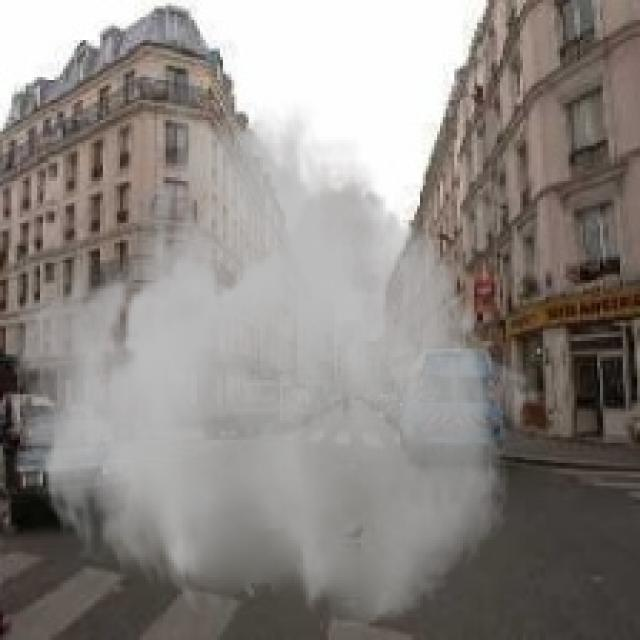Smoke: (6, 89, 540, 632)
